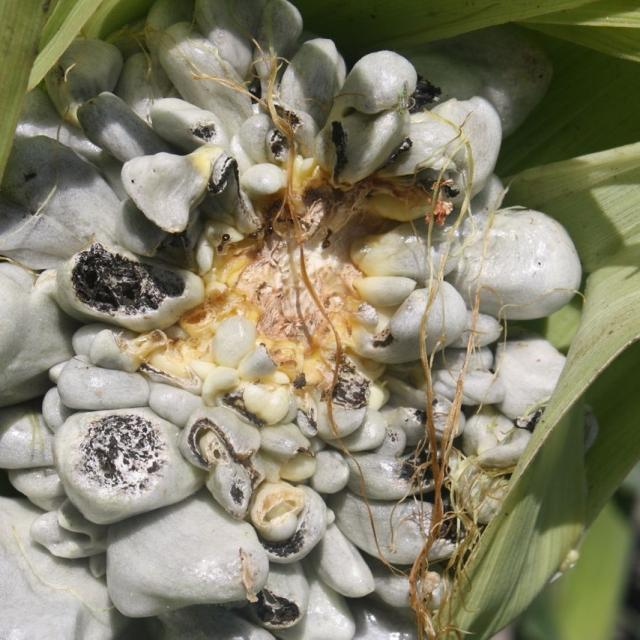Leaf_Scald: (2, 2, 640, 640)
